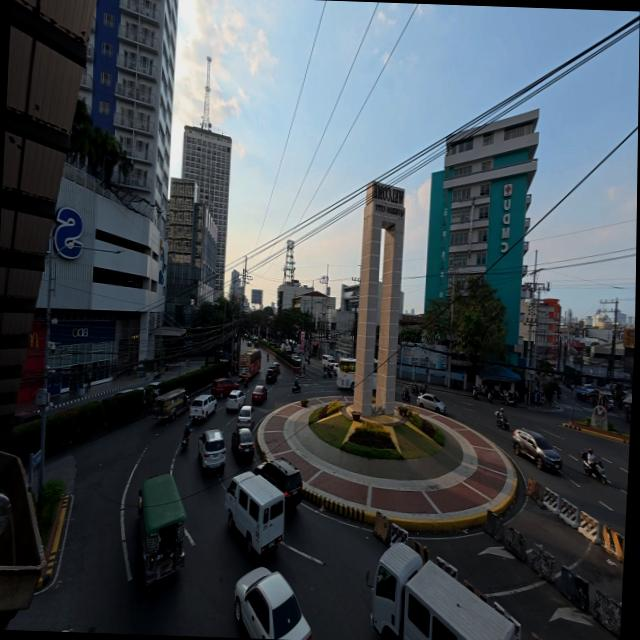car: (231, 562, 315, 640), (510, 427, 564, 471), (194, 428, 228, 474), (415, 390, 448, 412)
vans: (222, 464, 291, 556)
